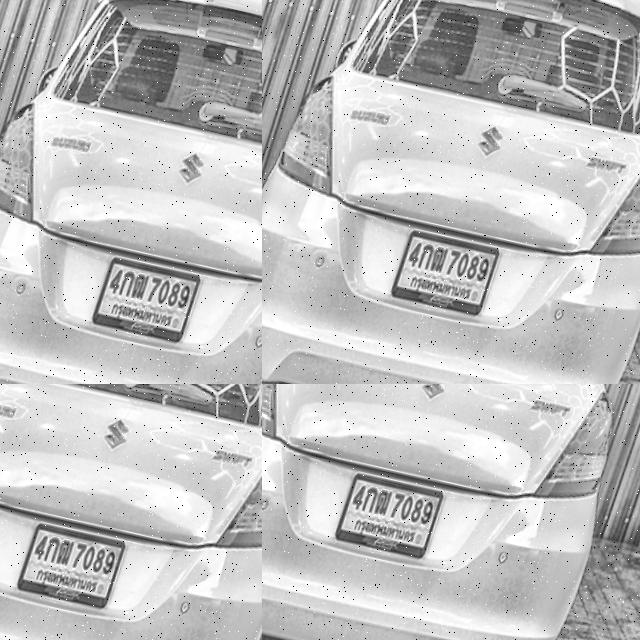license-plate: (337, 470, 457, 566)
